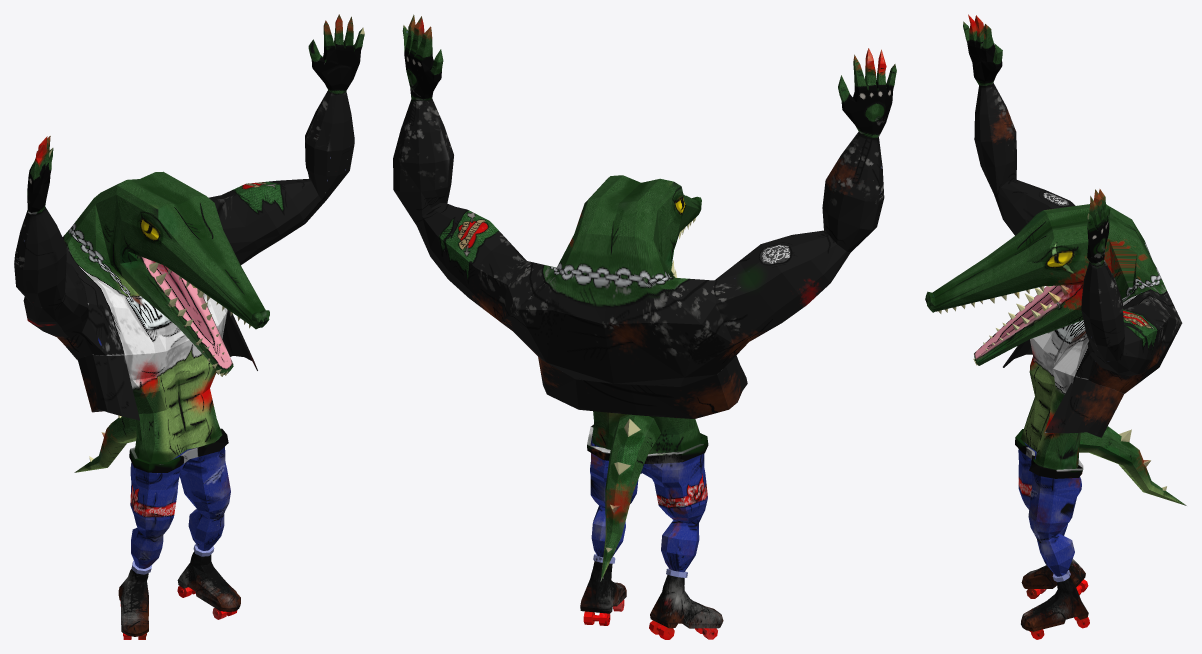
Rendered from cocodrilaBonesSelect_000017.obj.
The picture shows the model from 3 angles, left to right: view 1: azimuth 30°, elevation 25°; view 2: azimuth 150°, elevation 25°; view 3: azimuth 270°, elevation 25°; orthographic projection. The views are drawn at different scales.
Parts seen in each view (by area): view 1: Crocodile.002_Cylinder.002; view 2: Crocodile.002_Cylinder.002; view 3: Crocodile.002_Cylinder.002.
Boxes of the visible parts, <box> form: Crocodile.002_Cylinder.002: <box>14,14,364,639</box>; Crocodile.002_Cylinder.002: <box>393,14,896,639</box>; Crocodile.002_Cylinder.002: <box>925,14,1186,639</box>.
Size of the model in its own units: 6.37 by 8.5 by 3.86.
